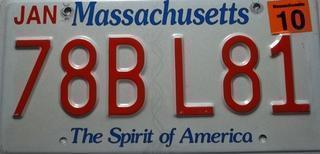placa de veiculo: (8, 2, 315, 148)
